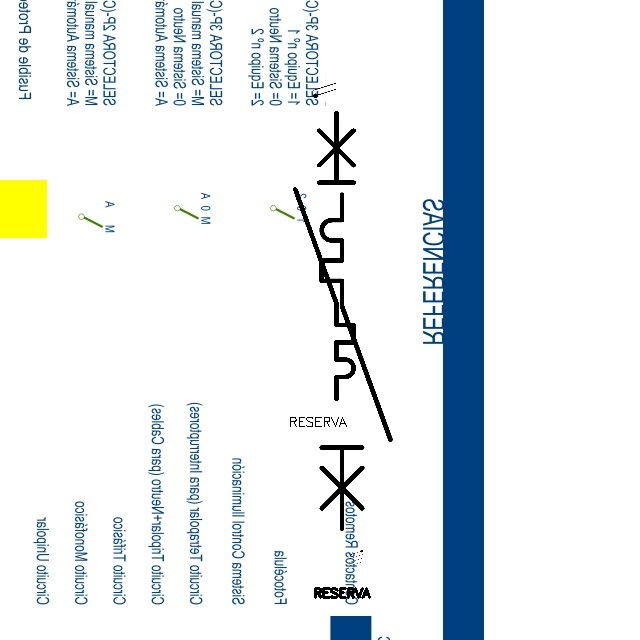interruptor_termomagnetico: (313, 186, 399, 537), (288, 105, 361, 405)
